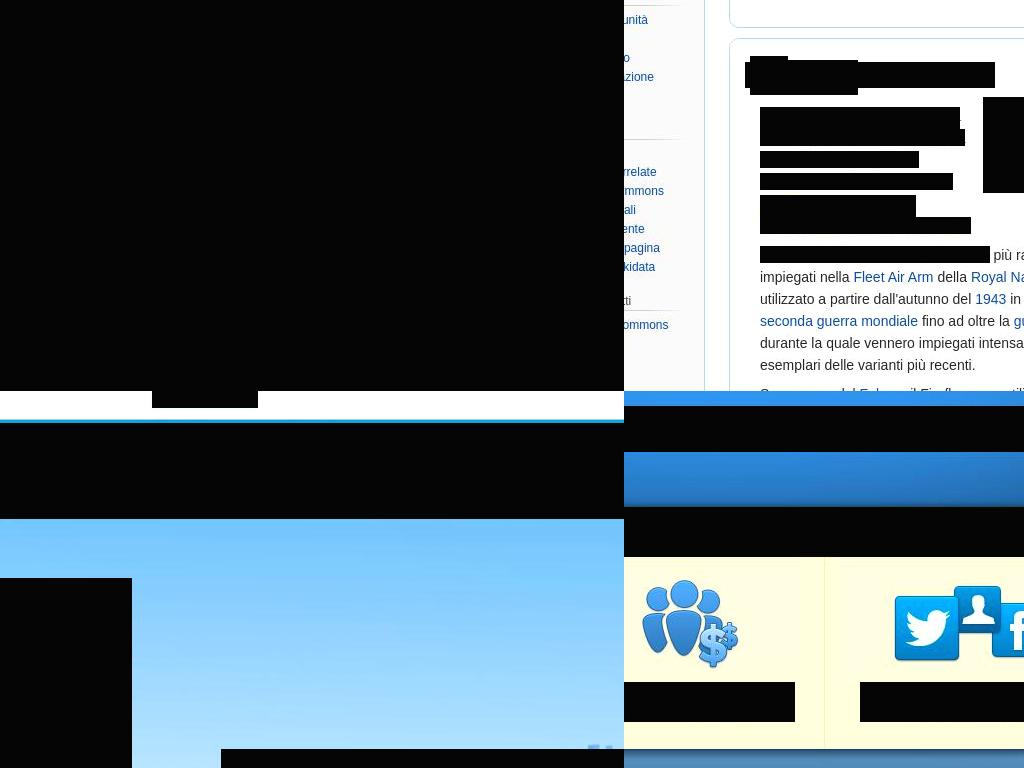button: (0, 22, 374, 67), (0, 77, 157, 127), (561, 216, 624, 266), (969, 407, 1024, 450), (152, 391, 258, 408)
field: (624, 406, 1024, 452), (187, 216, 546, 266), (405, 23, 624, 64)
heading: (624, 0, 749, 391), (0, 578, 132, 768), (187, 104, 624, 156), (624, 507, 1024, 557), (0, 178, 624, 201), (187, 166, 624, 196), (624, 682, 795, 722), (860, 682, 1024, 722), (624, 122, 687, 137), (624, 294, 687, 309)
image: (0, 0, 624, 391), (0, 519, 624, 768), (0, 423, 624, 519), (249, 226, 489, 391), (0, 226, 239, 391), (499, 226, 624, 391), (0, 22, 374, 64), (745, 62, 995, 88), (983, 97, 1024, 193), (750, 56, 788, 95), (987, 408, 1016, 449)
link: (760, 107, 960, 146), (760, 195, 916, 234), (760, 312, 918, 329), (480, 91, 602, 112), (177, 91, 252, 112), (380, 91, 452, 112), (281, 91, 352, 112), (880, 217, 966, 234), (853, 268, 935, 285), (760, 195, 821, 212), (905, 129, 965, 146), (932, 246, 990, 263), (760, 173, 815, 190), (970, 268, 1024, 285), (624, 318, 670, 333), (624, 184, 665, 199), (624, 241, 661, 256), (975, 290, 1007, 307), (624, 165, 658, 180), (624, 260, 656, 275), (624, 69, 655, 84), (624, 12, 649, 27), (624, 222, 646, 237), (859, 385, 902, 391)
text: (760, 312, 1024, 373), (187, 291, 624, 318), (760, 246, 1024, 285), (760, 268, 1024, 307), (0, 458, 346, 480), (161, 371, 475, 391), (436, 459, 614, 479), (0, 90, 133, 114), (760, 246, 933, 263), (760, 151, 919, 168), (785, 60, 858, 95), (815, 173, 953, 190), (345, 458, 429, 480), (799, 129, 906, 146), (918, 312, 1014, 329), (770, 107, 858, 124), (560, 371, 624, 391), (858, 107, 907, 124), (843, 217, 882, 234), (933, 268, 971, 285), (760, 385, 860, 391), (169, 391, 241, 399), (760, 107, 771, 124), (966, 217, 971, 234)
